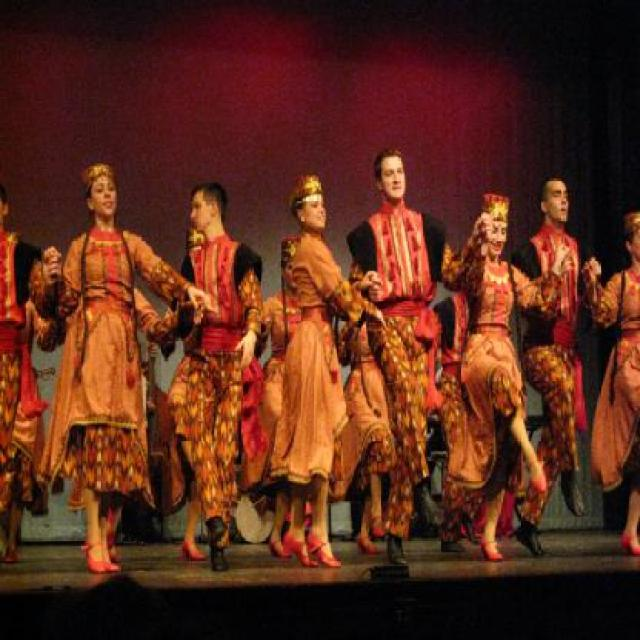obstacle: (47, 161, 219, 576), (346, 148, 491, 572), (267, 168, 391, 572), (452, 193, 573, 564), (167, 180, 261, 572), (515, 174, 603, 560), (59, 285, 179, 563), (168, 223, 246, 560), (0, 186, 58, 526), (582, 210, 638, 556), (254, 232, 303, 558), (0, 295, 58, 566), (337, 316, 395, 555), (432, 282, 479, 547)
